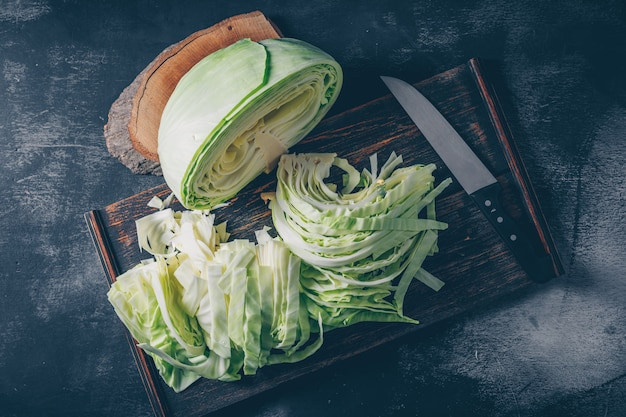knife: (382, 75, 553, 284)
